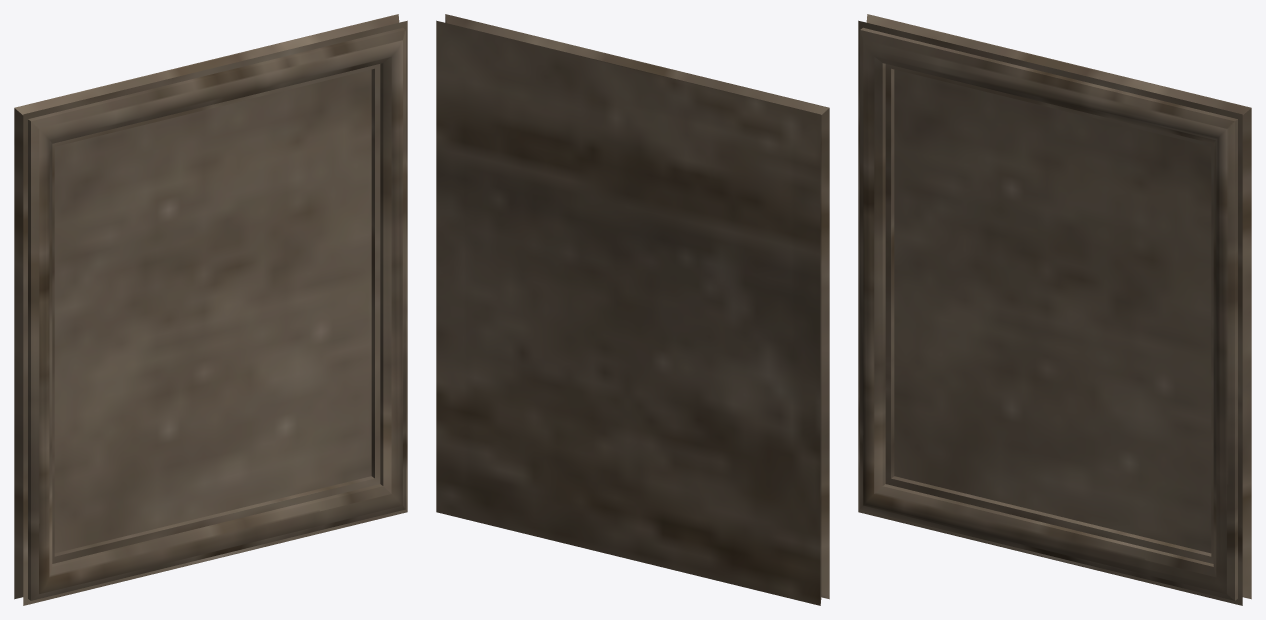
Rendered from fbx_Quadro.fbx.
The picture shows the model from 3 angles, left to right: view 1: azimuth 30°, elevation 25°; view 2: azimuth 150°, elevation 25°; view 3: azimuth 330°, elevation 25°; orthographic projection.
Visible parts, largest first — view 1: quadrinho1:pCube1; view 2: quadrinho1:pCube1; view 3: quadrinho1:pCube1.
Boxes of the visible parts, bbox=[...] form: quadrinho1:pCube1: bbox=[14, 14, 407, 605]; quadrinho1:pCube1: bbox=[436, 14, 829, 605]; quadrinho1:pCube1: bbox=[858, 14, 1251, 605].
Size of the model in its own units: 53.97 by 65.97 by 3.75.
Materials: 1 (1 with a texture image).
